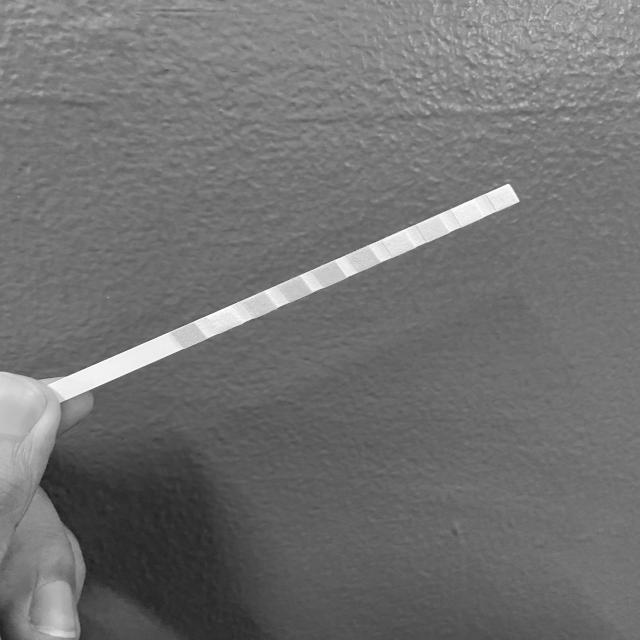Bilirubin: (215, 312, 234, 327)
Blood: (320, 266, 337, 282)
Glucose: (180, 328, 197, 343)
Ketone: (252, 296, 268, 313)
Leukocytes: (494, 190, 511, 206)
Nitrite: (458, 206, 476, 221)
Protein: (389, 236, 406, 252)
SpGravity: (286, 281, 304, 297)
Urobilinogen: (423, 221, 442, 236)
background: (0, 0, 640, 640)
pH: (355, 252, 373, 266)
strip: (47, 184, 520, 404)
